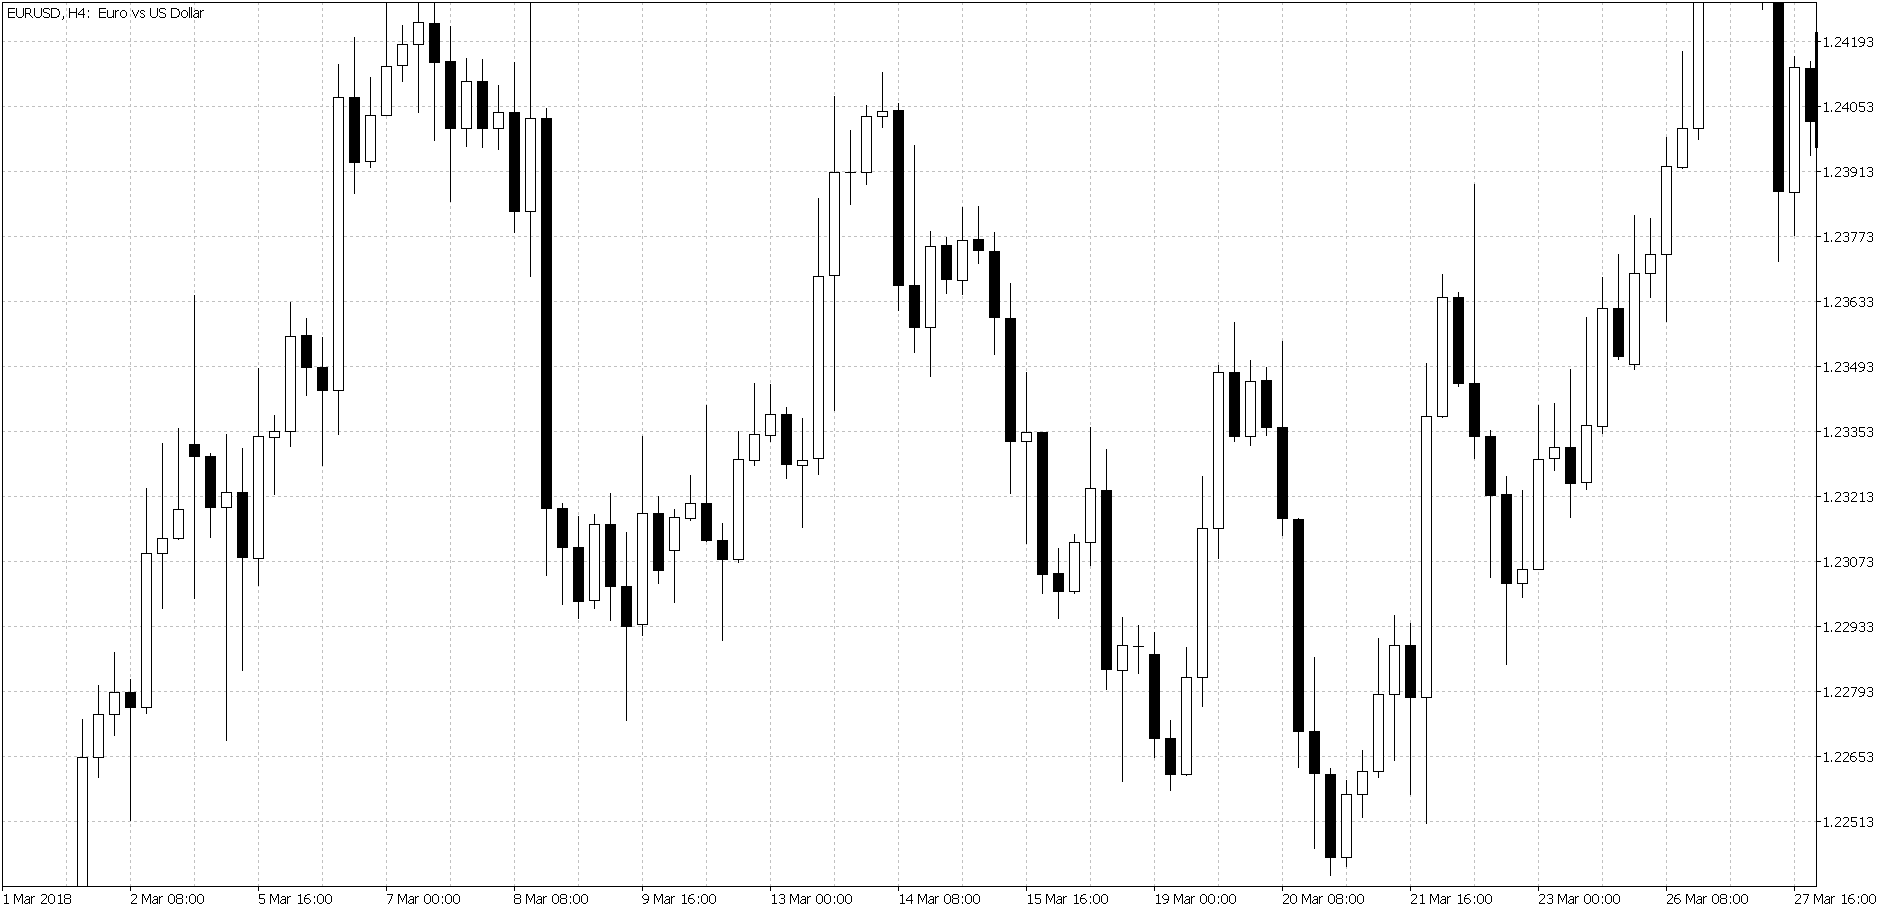3blackcrows: (1260, 342, 1307, 777)
3whitesoldiers: (1342, 633, 1384, 873)
bullishEngulfing: (910, 223, 939, 374), (1164, 664, 1196, 785), (1052, 535, 1082, 617)
eveningStar: (859, 71, 906, 303)
morningStar: (775, 249, 826, 525)
